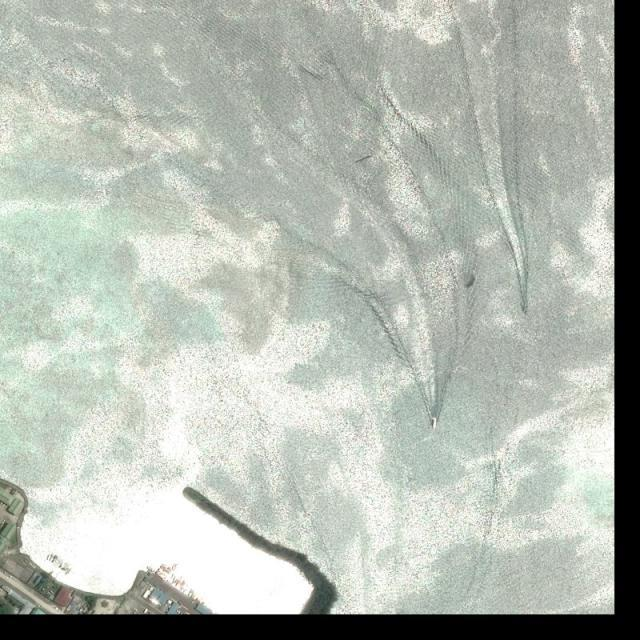ship: (432, 418, 438, 430), (522, 307, 527, 314)
